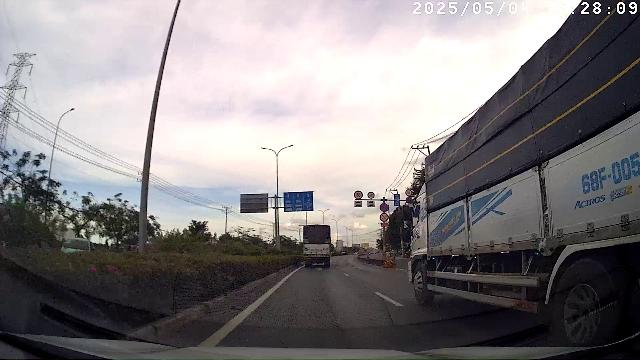127-toc-do-toi-da-50: (405, 189, 413, 196)
127-toc-do-toi-da-60: (367, 191, 375, 199)
127-toc-do-toi-da-80: (353, 189, 363, 199)
130-cam-dung-va-do-xe: (380, 203, 389, 212)
